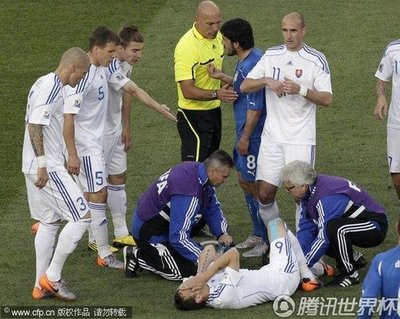fall: (168, 211, 318, 315)
